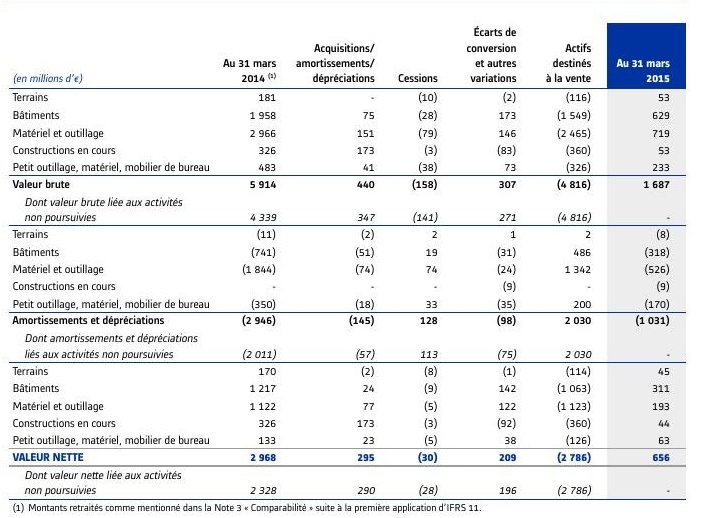table: (0, 0, 703, 518)
